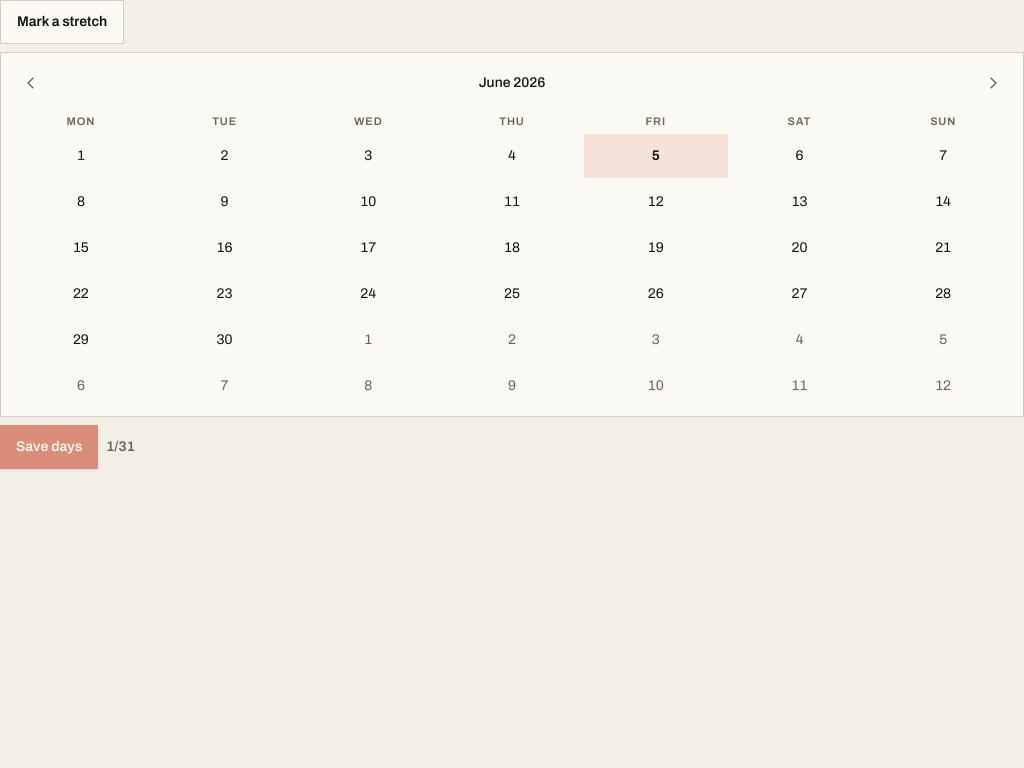
it: DayOptionsCalendar › asks before dropping an option that already has votes
Click the 1st button "5" at (656, 156), box [584,134,728,178]
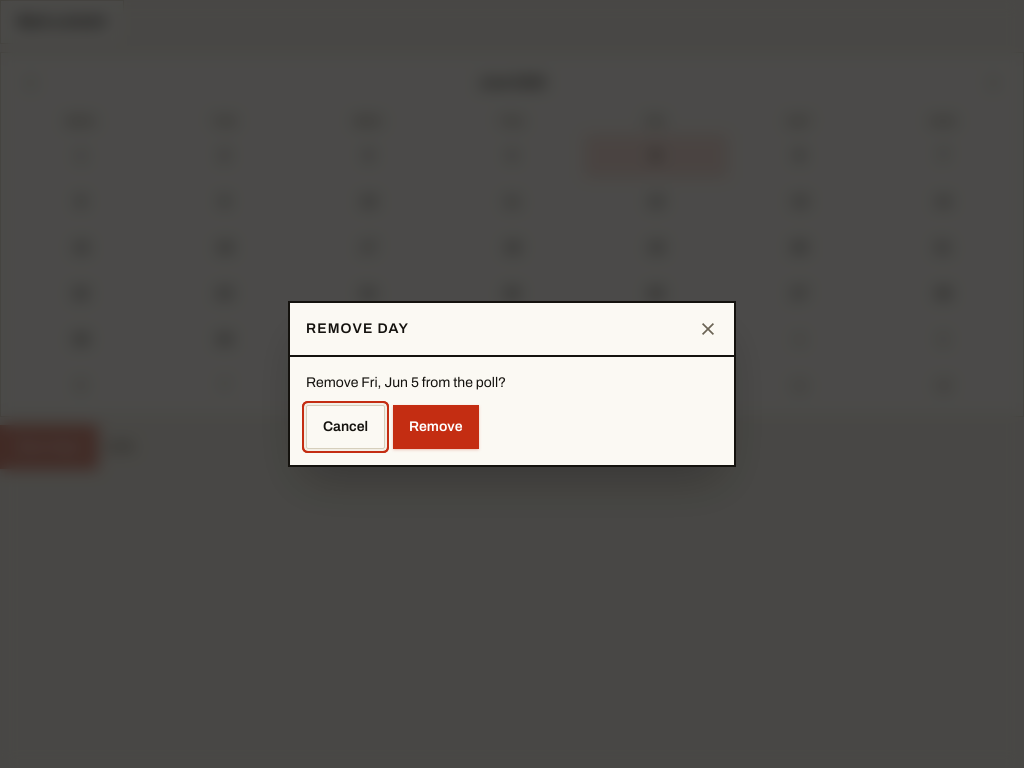
expect the dialog is shown: met, box [288,301,736,467]
